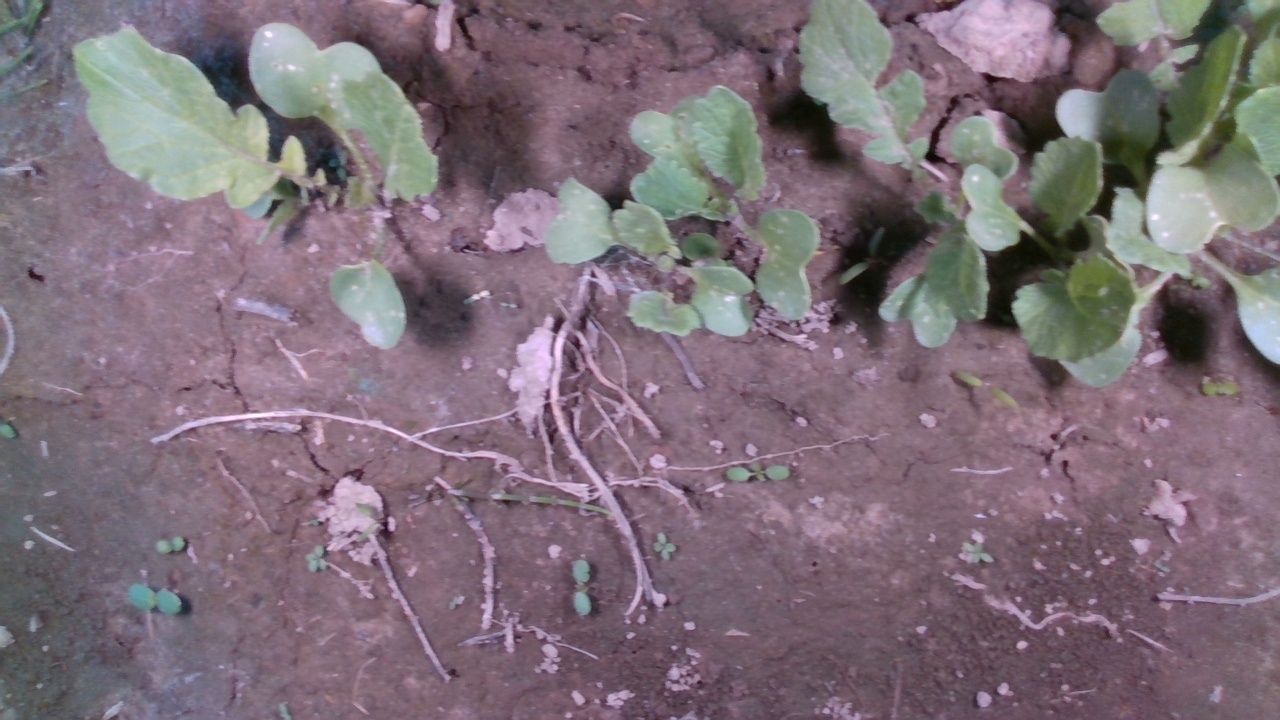weed: (719, 457, 793, 483), (570, 559, 593, 617), (651, 532, 678, 561)
